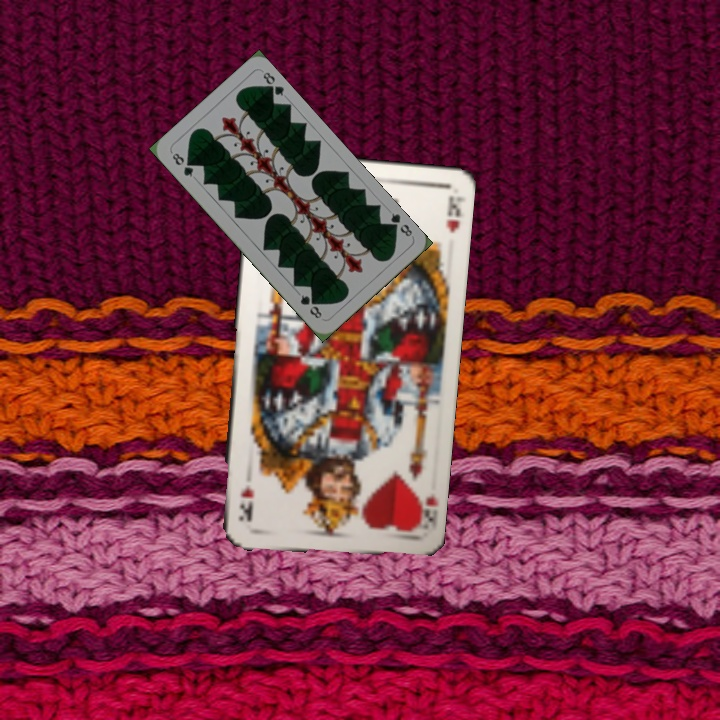G8: (384, 209, 415, 239), (168, 149, 196, 180)
HK: (409, 489, 439, 534)
